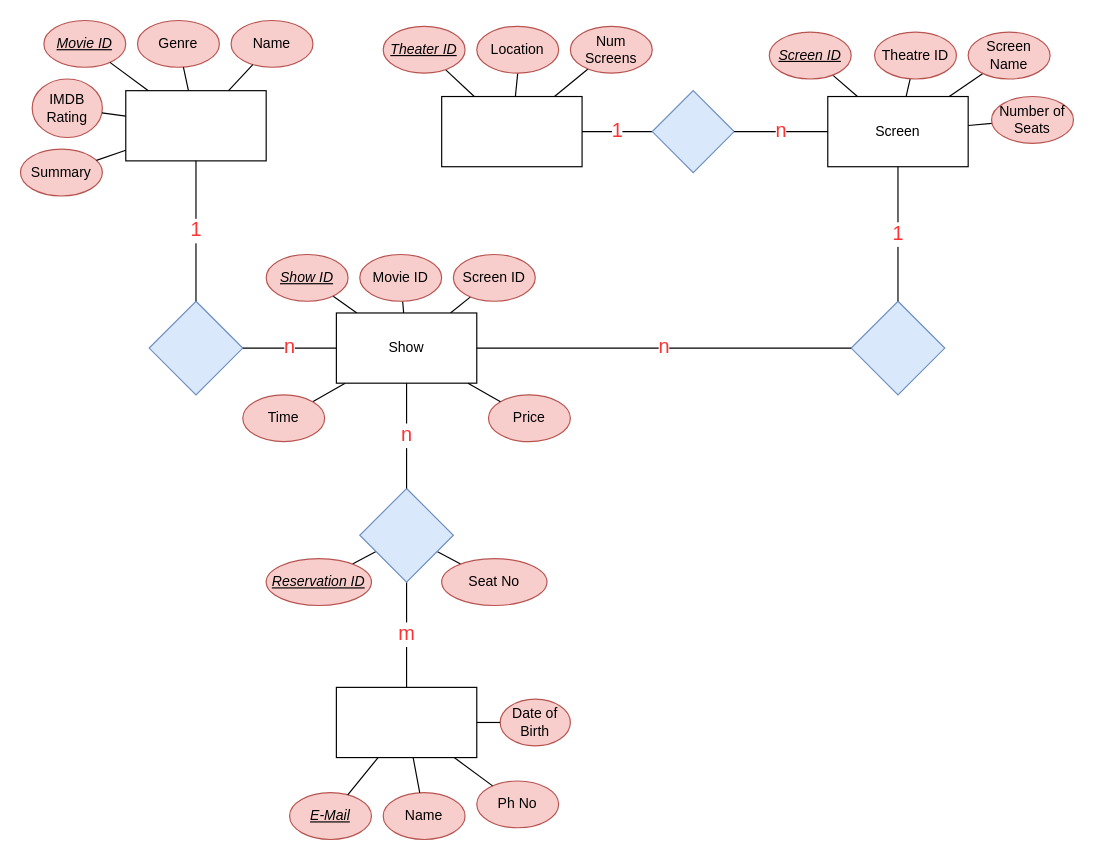
This 1094x860 diagram has some shape labels left out. Each missing label, with the centre of its shape:
"Movie" belongs at pixel 195 125.
"Playing In" belongs at pixel 897 347.
"Present In" belongs at pixel 692 131.
"Reserves" belongs at pixel 406 534.
"Showing" belongs at pixel 195 347.
"Theater" belongs at pixel 511 131.
"User" belongs at pixel 406 722.
